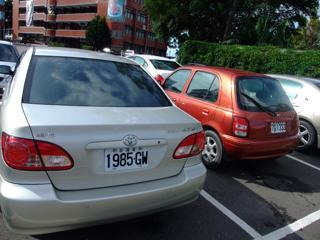plate: (105, 145, 151, 170)
